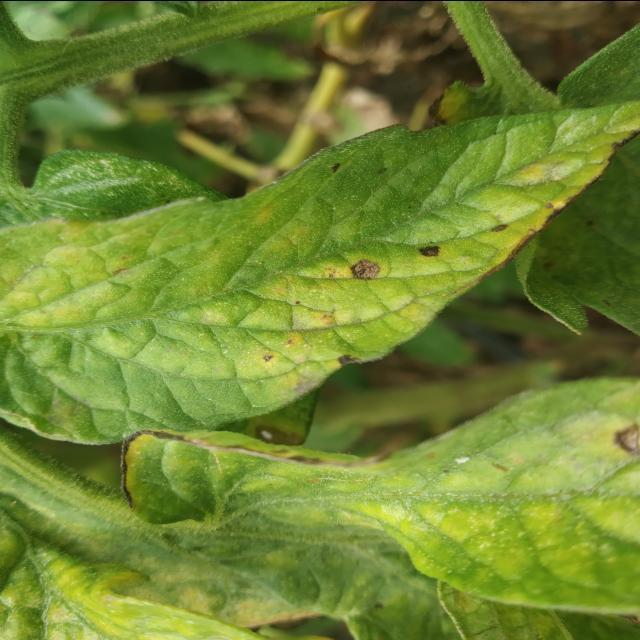Tomato mosaic virus leaf: (195, 96, 640, 432)
